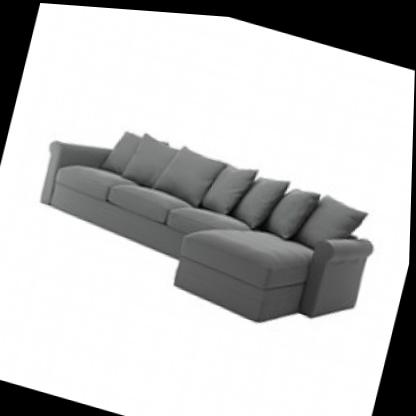Sofa: (8, 82, 395, 360)
